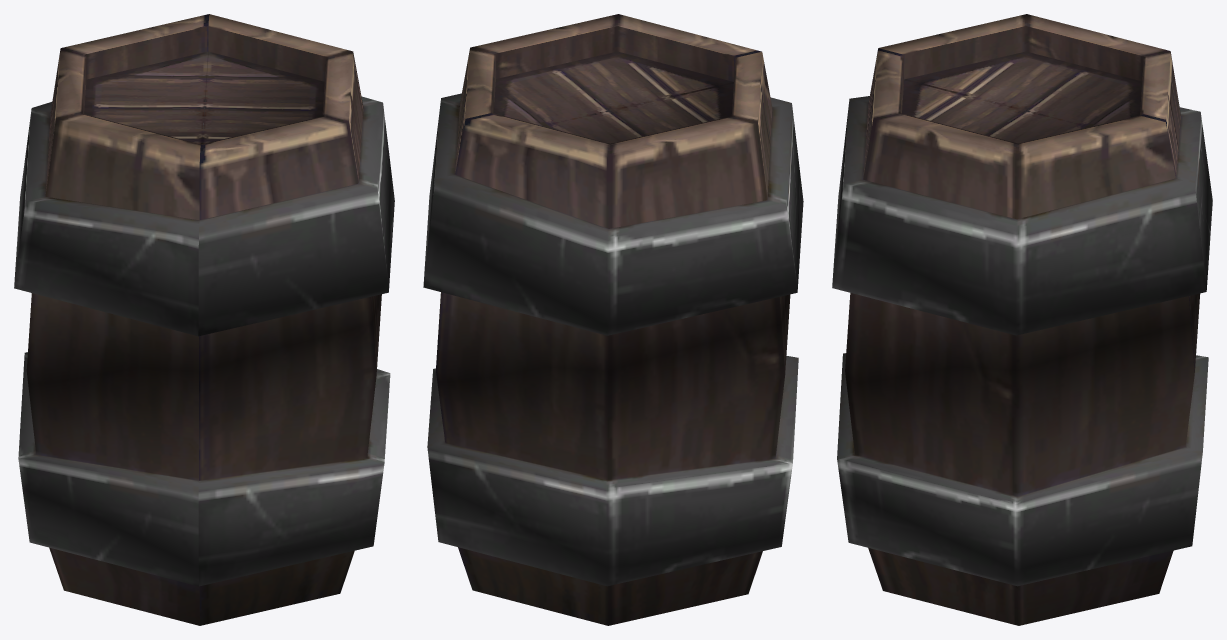
Rendered from environment_common_mutong_001_a.FBX.
3 views of the same model, side by side, from view 1: azimuth 30°, elevation 25°; view 2: azimuth 150°, elevation 25°; view 3: azimuth 270°, elevation 25° (orthographic).
Parts seen in each view (by area): view 1: environment_common_mutong_001_a; view 2: environment_common_mutong_001_a; view 3: environment_common_mutong_001_a.
Part boxes in pixels (box(x1,y1,x2,y2)): environment_common_mutong_001_a: box(14, 14, 394, 625); environment_common_mutong_001_a: box(423, 14, 803, 625); environment_common_mutong_001_a: box(832, 14, 1212, 625).
Size of the model in its own units: 118 by 143 by 104.
Materials: 1 (1 with a texture image).
